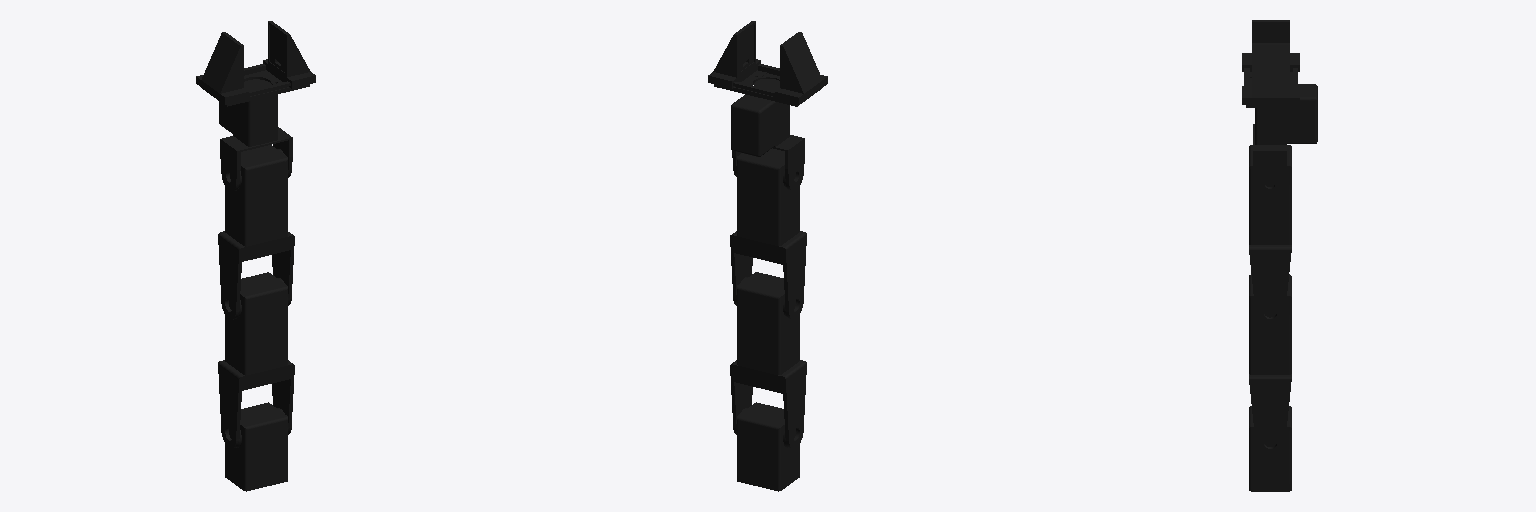
robot.urdf — phantomx:
<?xml version="1.0" ?>
<!-- =================================================================================== -->
<!-- |    This document was autogenerated by xacro from phantomx.xacro                 | -->
<!-- |    EDITING THIS FILE BY HAND IS NOT RECOMMENDED                                 | -->
<!-- =================================================================================== -->
<!-- Revolute-Revolute Manipulator -->
<robot name="phantomx" xmlns:xacro="http://www.ros.org/wiki/xacro">
  <!-- Constants for robot dimensions -->
  <!-- Square dimensions (widthxwidth) of beams -->
  <!-- Link 1 -->
  <!-- Link 2 -->
  <!-- Link 3 -->
  <!-- Link 4 -->
  <!-- Link 5 -->
  <!-- Link 6 -->
  <!-- Size of square 'camera' box -->
  <!-- Space btw top of beam and the each joint -->
  <!-- for zooming the meshes -->
  <!-- Import all Gazebo-customization elements, including Gazebo colors -->
  <gazebo>
    <plugin filename="libgazebo_ros_control.so" name="gazebo_ros_control">
      <robotParam>/robot_description</robotParam>
    </plugin>
  </gazebo>
  <gazebo reference="link1">
    <material>Gazebo/Black</material>
  </gazebo>
  <gazebo reference="link2">
    <mu1>0.2</mu1>
    <mu2>0.2</mu2>
    <material>Gazebo/Orange</material>
  </gazebo>
  <gazebo reference="link3">
    <mu1>0.2</mu1>
    <mu2>0.2</mu2>
    <material>Gazebo/Green</material>
  </gazebo>
  <gazebo reference="link4">
    <mu1>0.2</mu1>
    <mu2>0.2</mu2>
    <material>Gazebo/Orange</material>
  </gazebo>
  <gazebo reference="link5">
    <mu1>0.2</mu1>
    <mu2>0.2</mu2>
    <material>Gazebo/Blue</material>
  </gazebo>
  <gazebo reference="link6">
    <mu1>0.2</mu1>
    <mu2>0.2</mu2>
    <material>Gazebo/Black</material>
  </gazebo>
  <gazebo reference="camera_link">
    <mu1>0.2</mu1>
    <mu2>0.2</mu2>
    <material>Gazebo/Red</material>
  </gazebo>
  <!-- Import Rviz colors -->
  <material name="black">
    <color rgba="0.15 0.15 0.15 1.0"/>
  </material>
  <material name="blue">
    <color rgba="0.0 0.0 0.8 1.0"/>
  </material>
  <material name="green">
    <color rgba="0.0 0.8 0.0 1.0"/>
  </material>
  <material name="grey">
    <color rgba="0.2 0.2 0.2 1.0"/>
  </material>
  <material name="orange">
    <color rgba="1.0 0.423529411765 0.0392156862745 1.0"/>
  </material>
  <material name="brown">
    <color rgba="0.870588235294 0.811764705882 0.764705882353 1.0"/>
  </material>
  <material name="red">
    <color rgba="0.8 0.0 0.0 1.0"/>
  </material>
  <material name="white">
    <color rgba="1.0 1.0 1.0 1.0"/>
  </material>
  <!-- Used for fixing robot to Gazebo 'base_link' -->
  <link name="world"/>
  <joint name="fixed" type="fixed">
    <parent link="world"/>
    <child link="link1"/>
  </joint>
  <!-- Base Link -->
  <link name="link1">
    <collision>
      <origin rpy="0 0 0" xyz="0 0 0.0"/>
      <geometry>
        <box size="0.08 0.08 0.086"/>
      </geometry>
    </collision>
    <visual>
      <origin rpy="-0.0 0  0.0" xyz="-0.1 -0.132 0.0"/>
      <geometry>
        <mesh filename="package://phantomx_description/meshes/Base.stl" scale="0.01 0.01 0.01"/>
      </geometry>
      <material name="black"/>
    </visual>
    <inertial>
      <origin rpy="0 0 0" xyz="0 0 0"/>
      <mass value="1"/>
      <inertia ixx="1.0" ixy="0.0" ixz="0.0" iyy="1.0" iyz="0.0" izz="1.0"/>
    </inertial>
  </link>
  <joint name="joint1" type="continuous">
    <parent link="link1"/>
    <child link="link2"/>
    <origin rpy="0 0 0" xyz="0 0. 0.086"/>
    <axis xyz="0 0 1"/>
    <!--limit effort="30" velocity="1.0" lower="-3.1416" upper="3.1416" /-->
    <dynamics damping="0.7"/>
  </joint>
  <link name="link2">
    <collision>
      <origin rpy="0 0 0" xyz="0 0 0.0"/>
      <geometry>
        <box size="0.08 0.08 0.086"/>
      </geometry>
    </collision>
    <visual>
      <origin rpy="1.5707963 0  1.5707963" xyz="-0.0 -0.0 0.0"/>
      <geometry>
        <mesh filename="package://phantomx_description/meshes/Shoulder.stl" scale="0.01 0.01 0.01"/>
      </geometry>
      <material name="black"/>
    </visual>
    <inertial>
      <origin rpy="0 0 0" xyz="0 0 0"/>
      <mass value="1"/>
      <inertia ixx="1.0" ixy="0.0" ixz="0.0" iyy="1.0" iyz="0.0" izz="1.0"/>
    </inertial>
  </link>
  <joint name="joint2" type="continuous">
    <parent link="link2"/>
    <child link="link3"/>
    <origin rpy="0 0 0" xyz="0 0. 0.042"/>
    <axis xyz="1 0 0"/>
    <dynamics damping="0.7"/>
  </joint>
  <link name="link3">
    <collision>
      <origin rpy="0 0 0" xyz="0 0 0.0"/>
      <geometry>
        <box size="0.08 0.08 0.086"/>
      </geometry>
    </collision>
    <visual>
      <origin rpy="1.5707963 0  1.5707963" xyz="-0.0 -0.0 0.0"/>
      <geometry>
        <mesh filename="package://phantomx_description/meshes/Bicep.stl" scale="0.01 0.01 0.01"/>
      </geometry>
      <material name="black"/>
    </visual>
    <inertial>
      <origin rpy="0 0 0" xyz="0 0 0"/>
      <mass value="1"/>
      <inertia ixx="1.0" ixy="0.0" ixz="0.0" iyy="1.0" iyz="0.0" izz="1.0"/>
    </inertial>
  </link>
  <joint name="joint3" type="continuous">
    <parent link="link3"/>
    <child link="link4"/>
    <origin rpy="0 0 0" xyz="0 0. 0.106"/>
    <axis xyz="1 0 0"/>
    <dynamics damping="0.7"/>
  </joint>
  <link name="link4">
    <collision>
      <origin rpy="0 0 0" xyz="0 0 0.0"/>
      <geometry>
        <box size="0.08 0.08 0.086"/>
      </geometry>
    </collision>
    <visual>
      <origin rpy="1.5707963 0  1.5707963" xyz="-0.0 -0.0 0.0"/>
      <geometry>
        <mesh filename="package://phantomx_description/meshes/Bicep.stl" scale="0.01 0.01 0.01"/>
      </geometry>
      <material name="black"/>
    </visual>
    <inertial>
      <origin rpy="0 0 0" xyz="0 0 0"/>
      <mass value="1"/>
      <inertia ixx="1.0" ixy="0.0" ixz="0.0" iyy="1.0" iyz="0.0" izz="1.0"/>
    </inertial>
  </link>
  <joint name="joint4" type="continuous">
    <parent link="link4"/>
    <child link="link5"/>
    <origin rpy="0 0 0" xyz="0 0. 0.106"/>
    <axis xyz="1 0 0"/>
    <dynamics damping="0.7"/>
  </joint>
  <link name="link5">
    <collision>
      <origin rpy="0 0 0" xyz="0 0 0.0"/>
      <geometry>
        <box size="0.08 0.08 0.086"/>
      </geometry>
    </collision>
    <visual>
      <origin rpy="-1.5707963 0  1.5707963" xyz="-0.0 -0.012 0.0325"/>
      <geometry>
        <mesh filename="package://phantomx_description/meshes/Wrist.stl" scale="0.01 0.01 0.01"/>
      </geometry>
      <material name="black"/>
    </visual>
    <inertial>
      <origin rpy="0 0 0" xyz="0 0 0"/>
      <mass value="1"/>
      <inertia ixx="1.0" ixy="0.0" ixz="0.0" iyy="1.0" iyz="0.0" izz="1.0"/>
    </inertial>
  </link>
  <joint name="joint5" type="continuous">
    <parent link="link5"/>
    <child link="link6"/>
    <origin rpy="0 0 0" xyz="0 0. 0.065"/>
    <axis xyz="0 0 1"/>
    <dynamics damping="0.7"/>
  </joint>
  <link name="link6">
    <collision>
      <origin rpy="0 0 0" xyz="0 0 0.0"/>
      <geometry>
        <box size="0.08 0.08 0.086"/>
      </geometry>
    </collision>
    <visual>
      <origin rpy="-0.0 0  0.0" xyz="-0.016 -0.036 -0.0325"/>
      <geometry>
        <mesh filename="package://phantomx_description/meshes/PX-Gripper.stl" scale="0.01 0.01 0.01"/>
      </geometry>
      <material name="black"/>
    </visual>
    <inertial>
      <origin rpy="0 0 0" xyz="0 0 0"/>
      <mass value="1"/>
      <inertia ixx="1.0" ixy="0.0" ixz="0.0" iyy="1.0" iyz="0.0" izz="1.0"/>
    </inertial>
  </link>
  <transmission name="joint1_trans" type="pr2_mechanism_model/SimpleTransmission">
    <type>transmission_interface/SimpleTransmission</type>
    <actuator name="motor1">
      <hardwareInterface>EffortJointInterface</hardwareInterface>
      <mechanicalReduction>1</mechanicalReduction>
    </actuator>
    <joint name="joint1"/>
  </transmission>
  <transmission name="joint2_trans" type="pr2_mechanism_model/SimpleTransmission">
    <type>transmission_interface/SimpleTransmission</type>
    <actuator name="motor2">
      <hardwareInterface>EffortJointInterface</hardwareInterface>
      <mechanicalReduction>1</mechanicalReduction>
    </actuator>
    <joint name="joint2"/>
  </transmission>
  <transmission name="joint3_trans" type="pr2_mechanism_model/SimpleTransmission">
    <type>transmission_interface/SimpleTransmission</type>
    <actuator name="motor3">
      <hardwareInterface>EffortJointInterface</hardwareInterface>
      <mechanicalReduction>1</mechanicalReduction>
    </actuator>
    <joint name="joint3"/>
  </transmission>
  <transmission name="joint4_trans" type="pr2_mechanism_model/SimpleTransmission">
    <type>transmission_interface/SimpleTransmission</type>
    <actuator name="motor4">
      <hardwareInterface>EffortJointInterface</hardwareInterface>
      <mechanicalReduction>1</mechanicalReduction>
    </actuator>
    <joint name="joint4"/>
  </transmission>
  <transmission name="joint5_trans" type="pr2_mechanism_model/SimpleTransmission">
    <type>transmission_interface/SimpleTransmission</type>
    <actuator name="motor5">
      <hardwareInterface>EffortJointInterface</hardwareInterface>
      <mechanicalReduction>1</mechanicalReduction>
    </actuator>
    <joint name="joint5"/>
  </transmission>
</robot>

--- What the picture shows (computed from the rendered views, not written in the file) ---
3 views of the same robot in one strip: view 1: azimuth 30°, elevation 25°; view 2: azimuth 150°, elevation 25°; view 3: azimuth 270°, elevation 25° (orthographic).
Model phantomx with 7 links and 6 joints (5 continuous, 1 fixed), rooted at world, posed every joint at zero.
Links seen in each view (by area): view 1: link3, link4, link6, link2, link5; view 2: link3, link4, link6, link2, link5; view 3: link3, link4, link6, link5, link2.
Boxes of the visible links, box(x1,y1,x2,y2) form: link3: box(218, 272, 294, 448); link4: box(218, 145, 294, 319); link6: box(196, 21, 315, 106); link2: box(225, 402, 287, 491); link5: box(219, 79, 292, 191); link3: box(730, 272, 806, 448); link4: box(730, 148, 806, 319); link6: box(708, 21, 827, 106); link2: box(737, 402, 799, 491); link5: box(731, 79, 804, 190); link3: box(1249, 274, 1291, 455); link4: box(1249, 145, 1291, 326); link6: box(1242, 20, 1299, 107); link5: box(1253, 84, 1317, 196); link2: box(1249, 406, 1291, 491).
Size in the robot's own frame: 0.0781 by 0.0558 by 0.366 metres.
5 mesh visuals loaded from 5 distinct referenced files (4 binary STL); not drawn: 1 (reference not matched to a file when rendering).